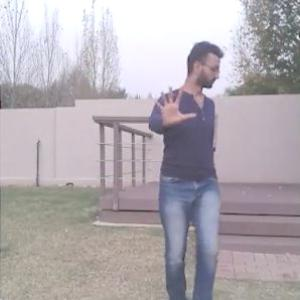follow_hand: (150, 79, 197, 128)
